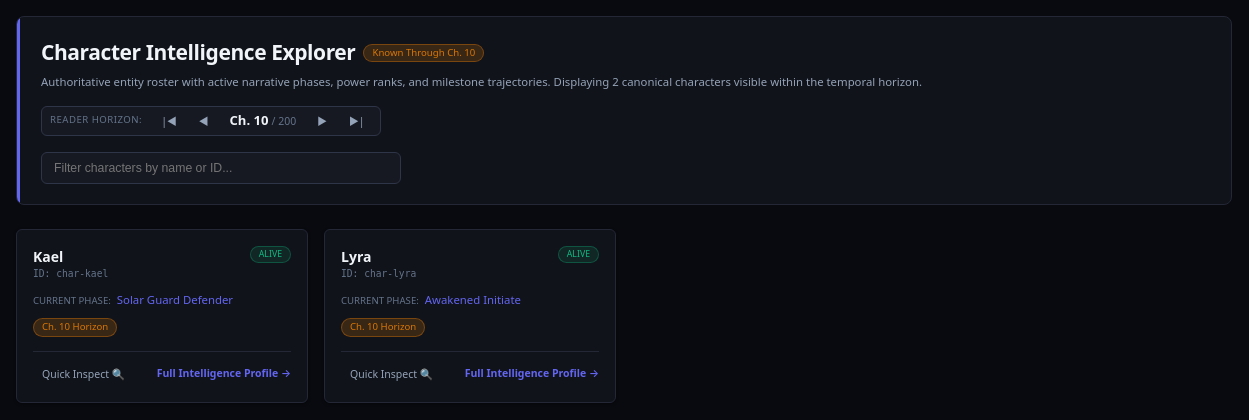
Scenario: CharactersPage — Character Intelligence Explorer (Phase 6.5) › filters visible characters when searching by name or ID
Type "lyra" into the search field named "search characters" at (221, 168), box [41,152,401,184]
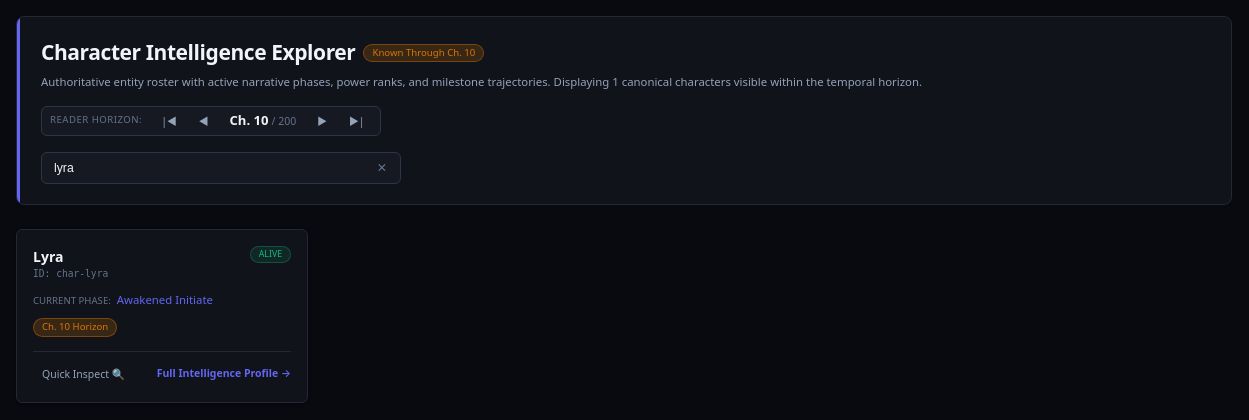
Expected: the link "Lyra" is shown, [33,248,63,266]
Expected: the link "Kael" is gone
